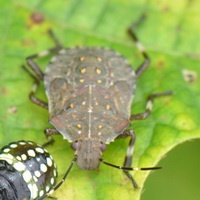insect: (23, 28, 149, 188), (0, 140, 57, 199)
